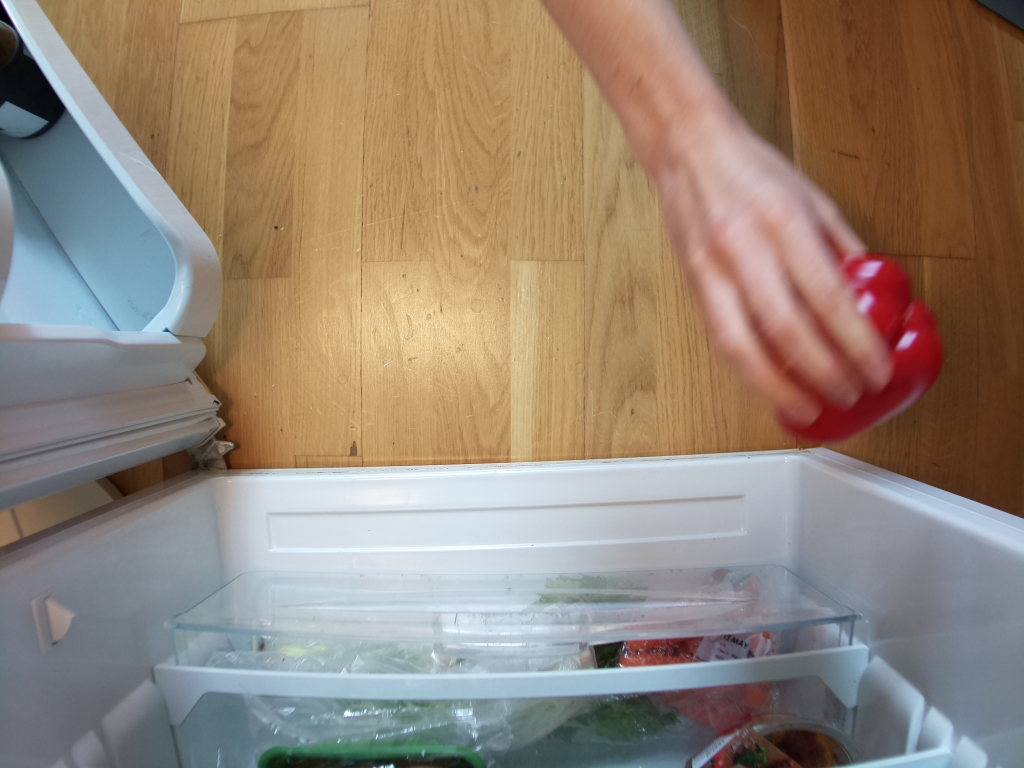pepper: (781, 253, 942, 449)
